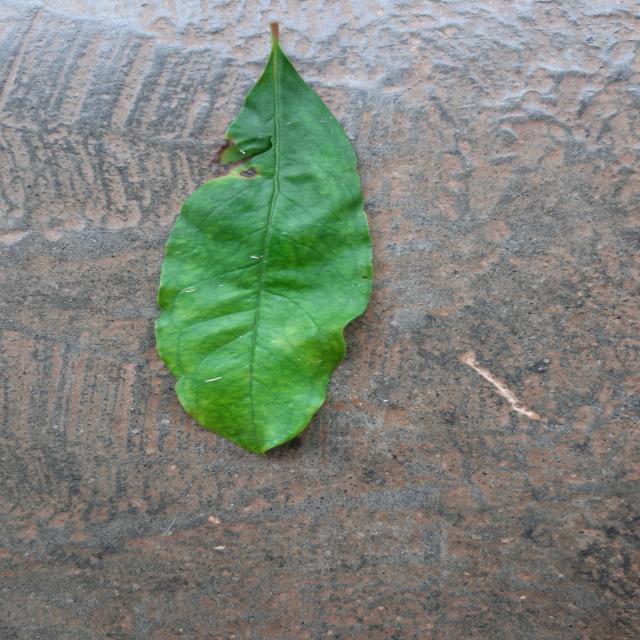pomgranate: (156, 24, 371, 454)
